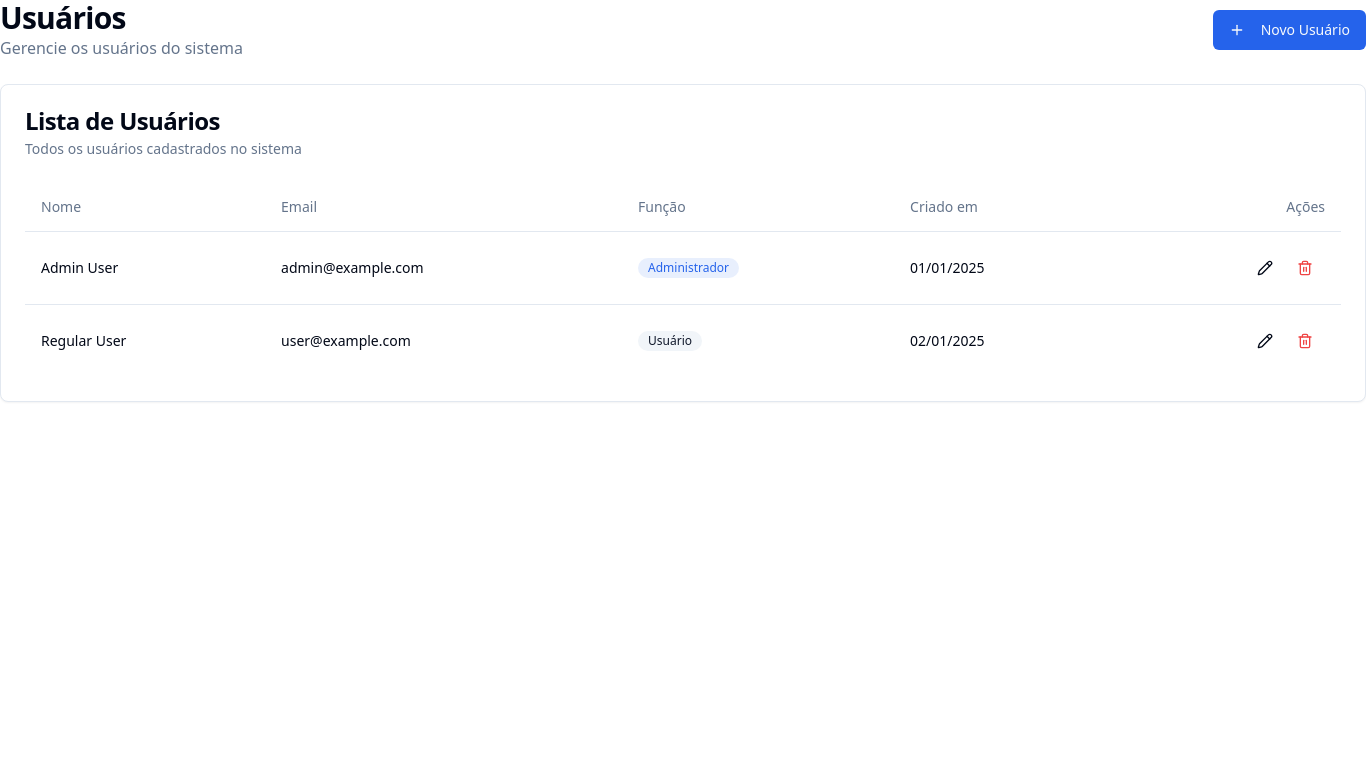
Scenario: Users › User Form Validation › should open create dialog when clicking new user button
Expected: the text "Admin User" is shown, [25,231,265,304]
Click the button "Novo Usuário" at (1289, 30), box [1213,10,1365,50]
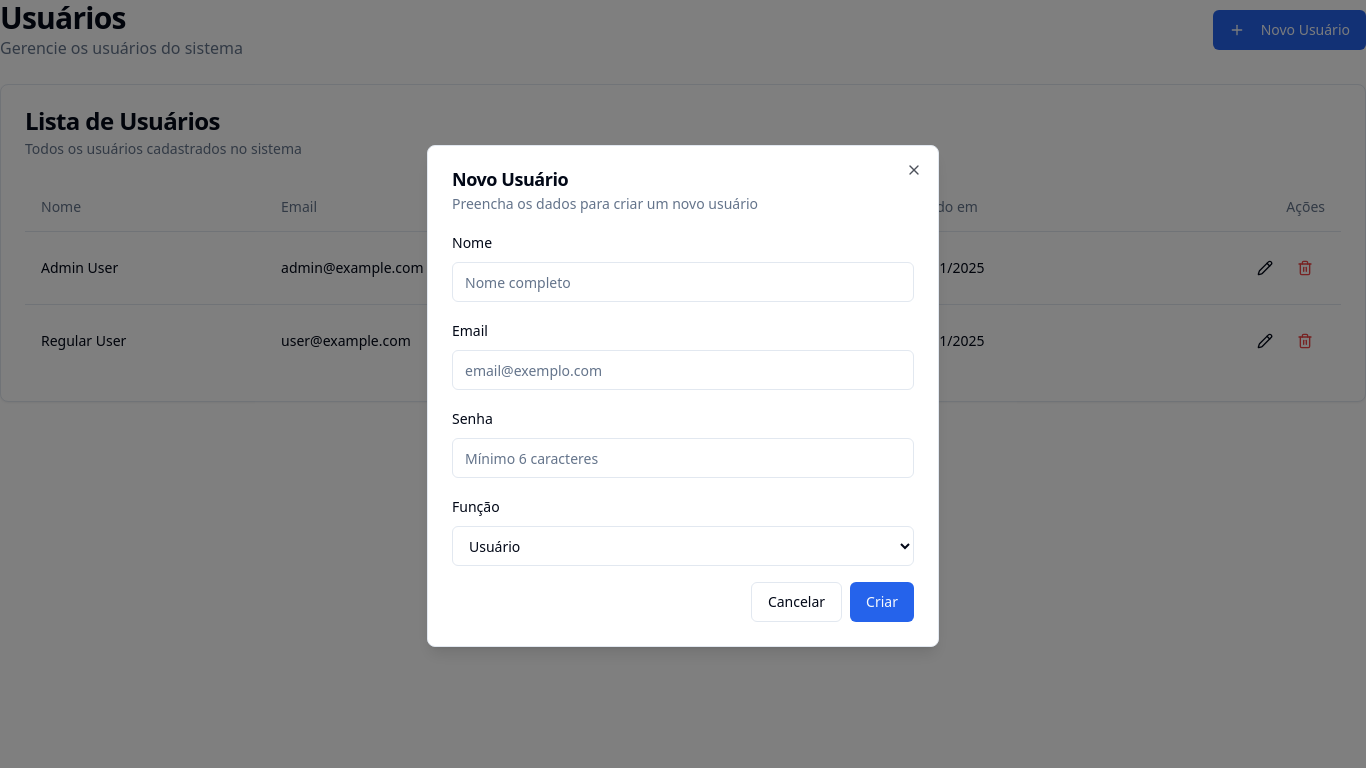
Expected: the text "Preencha os dados para criar um novo usuário" is shown, [452,194,758,213]
